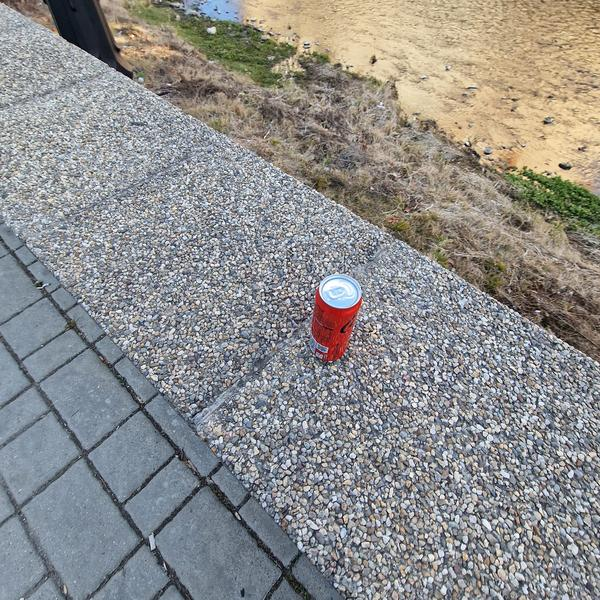can: (305, 270, 366, 366)
